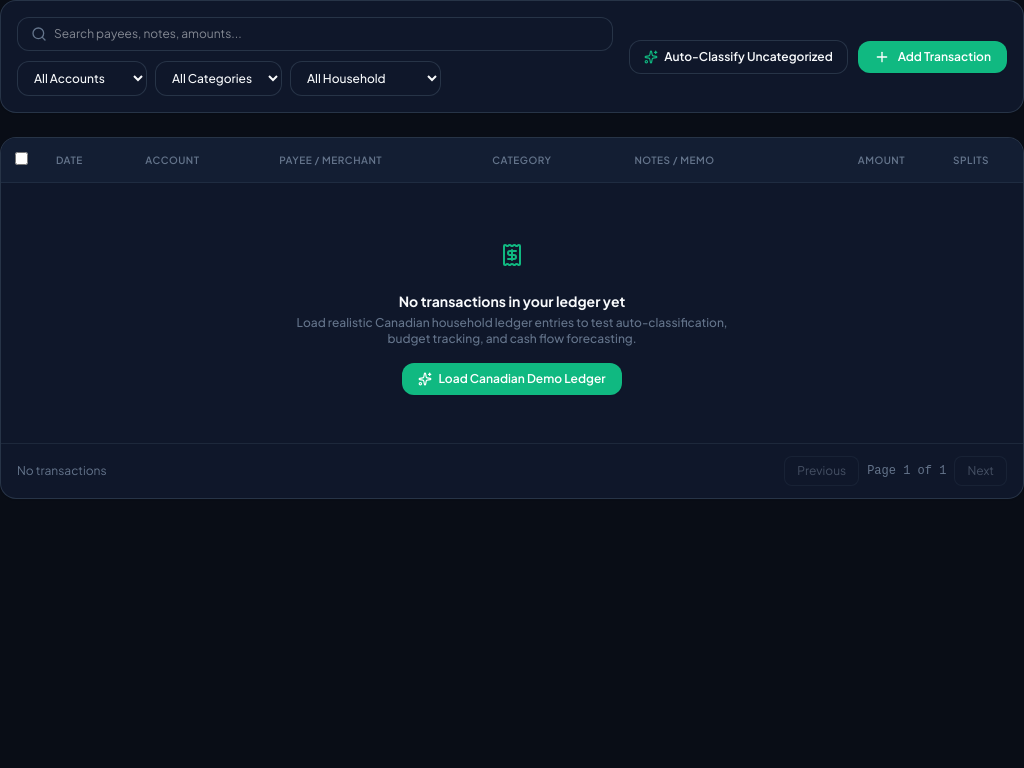
LedgerWorkspace Household Features › renders Household Member Attribution select in Transaction modal
The width and height of the screenshot is (1024, 768).
Click the button "Add Transaction". click: {"x": 932, "y": 56}
box: [858,40,1007,72]
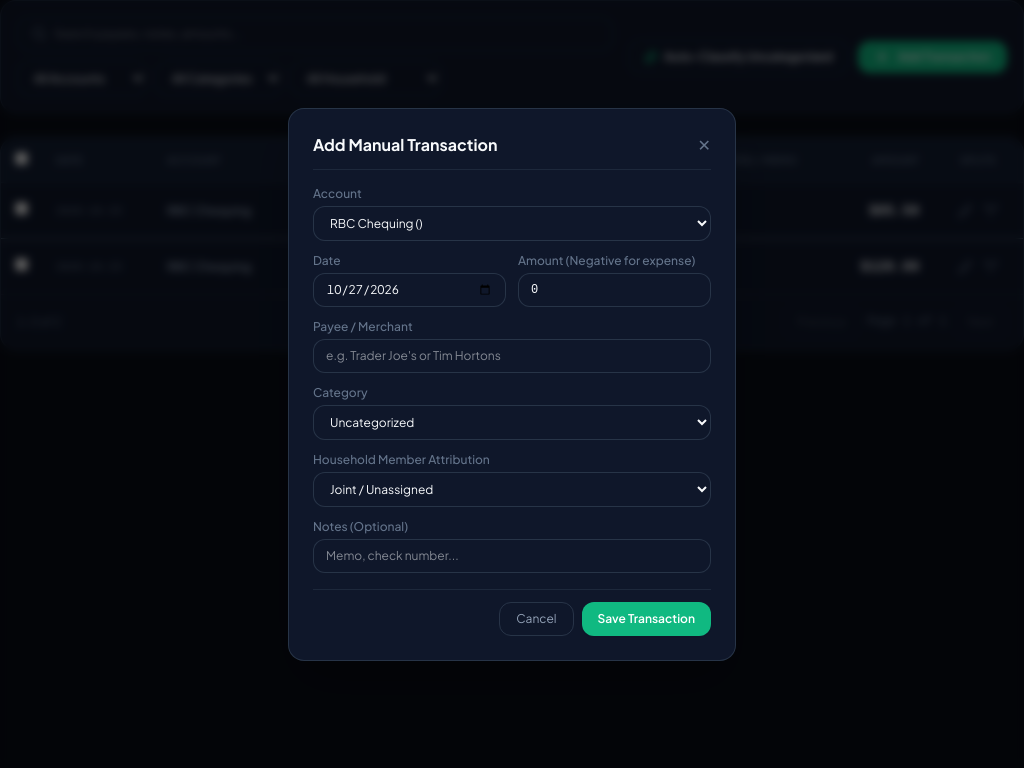
Result: the text "Household Member Attribution" is shown at [313,452,490,466]
